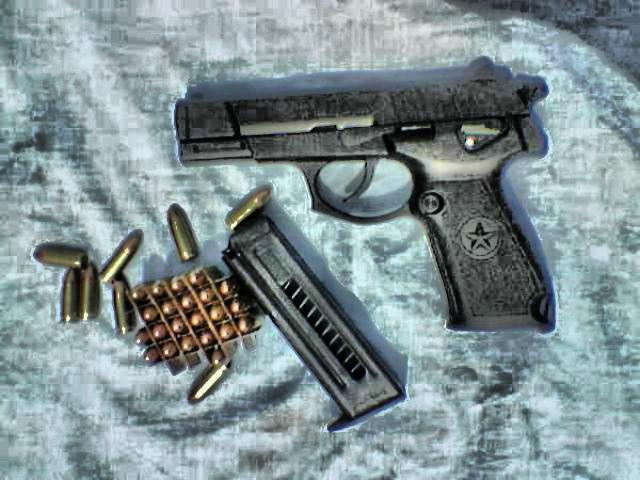pistol: (172, 62, 554, 332)
